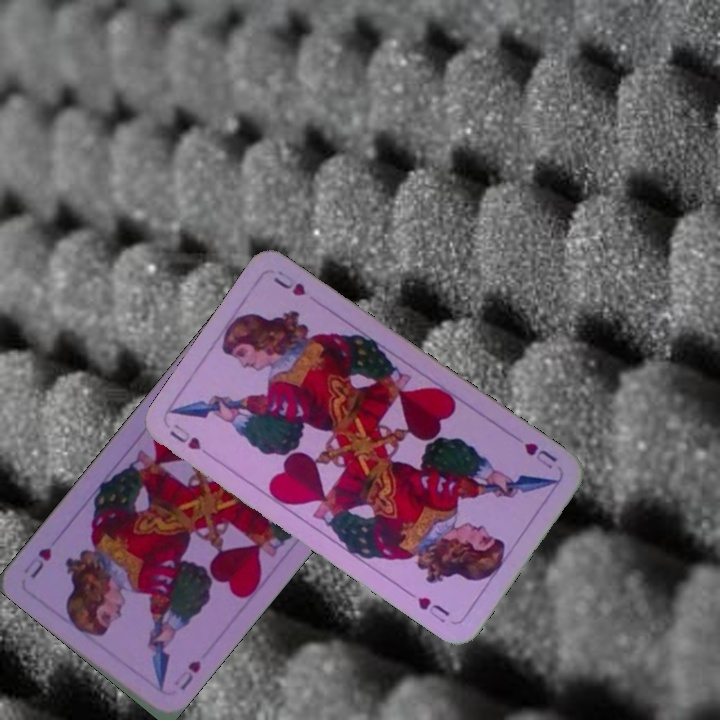HU: (165, 419, 217, 462), (520, 438, 560, 472), (169, 656, 204, 693)
